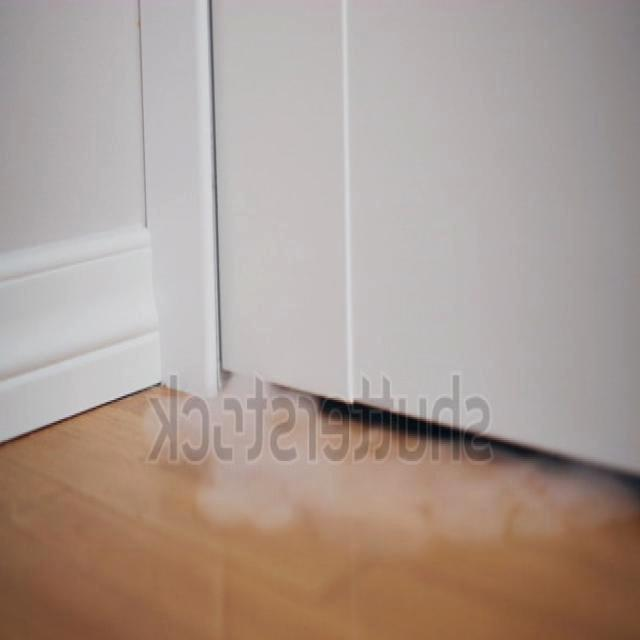smoke: (146, 366, 632, 541)
